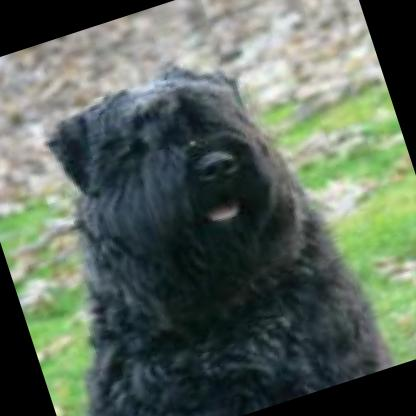Bouvier_des_Flandres: (0, 14, 395, 416)
